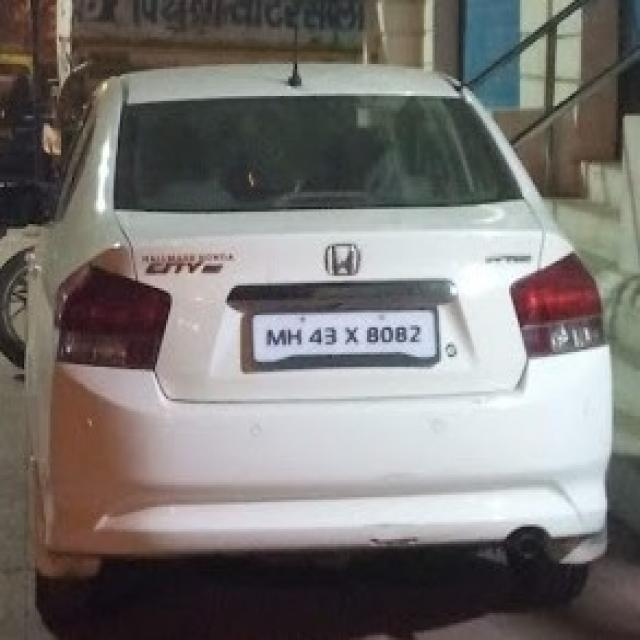Number-Plate: (256, 309, 437, 356)
